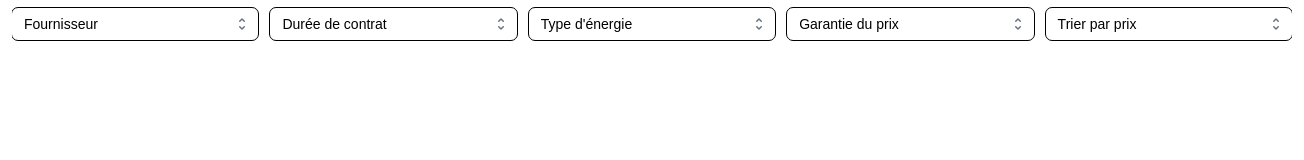
Test: Filters › Choose the first available energy type from the filter
Click the button "Type d'énergie".
click(652, 24)  # box [529,8,775,40]
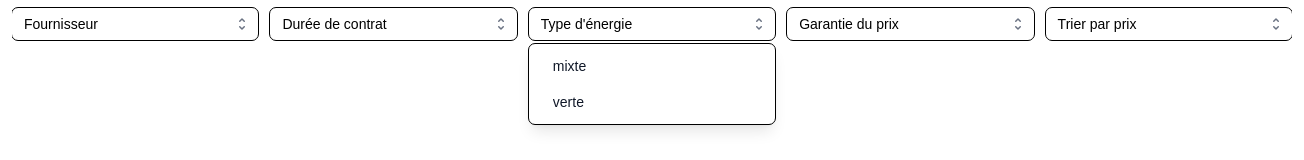
Click the option with test id "option-mixte".
click(570, 66)  # box [553,58,586,74]
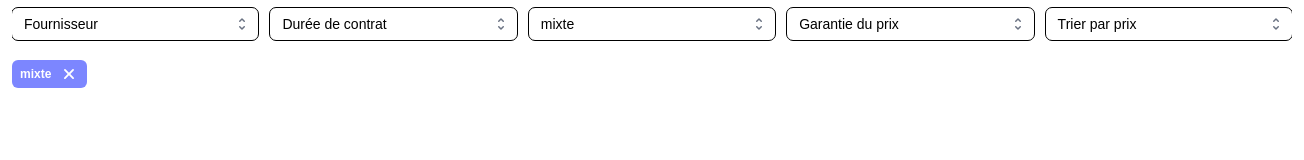
Check: the list item with test id "label-mixte" is shown, box [12,60,87,88]
